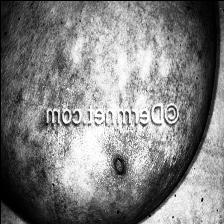Potentially Malignant Skin Tumors: (114, 155, 125, 176)
